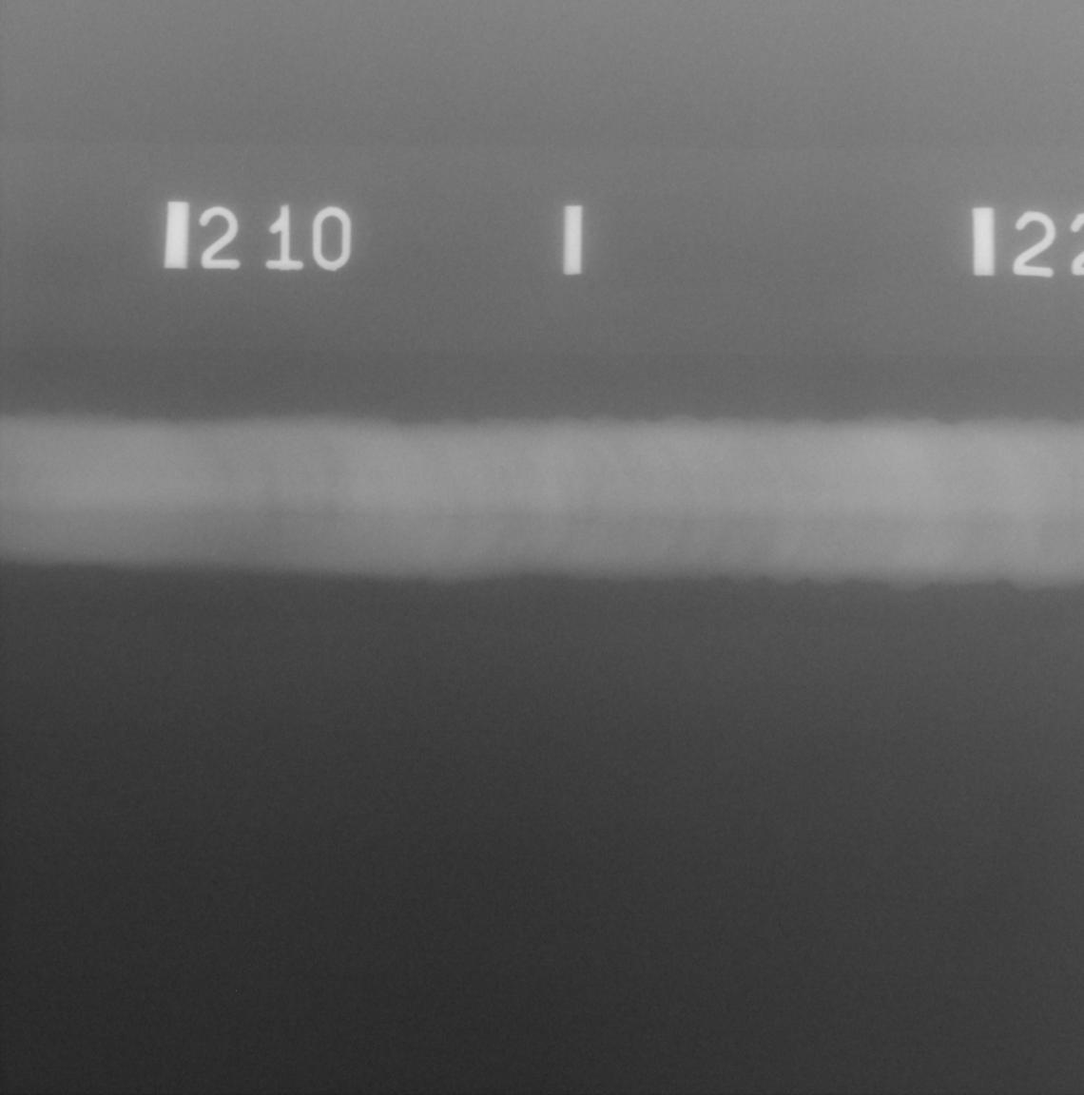Pore/Porosity: (501, 466, 505, 470)
